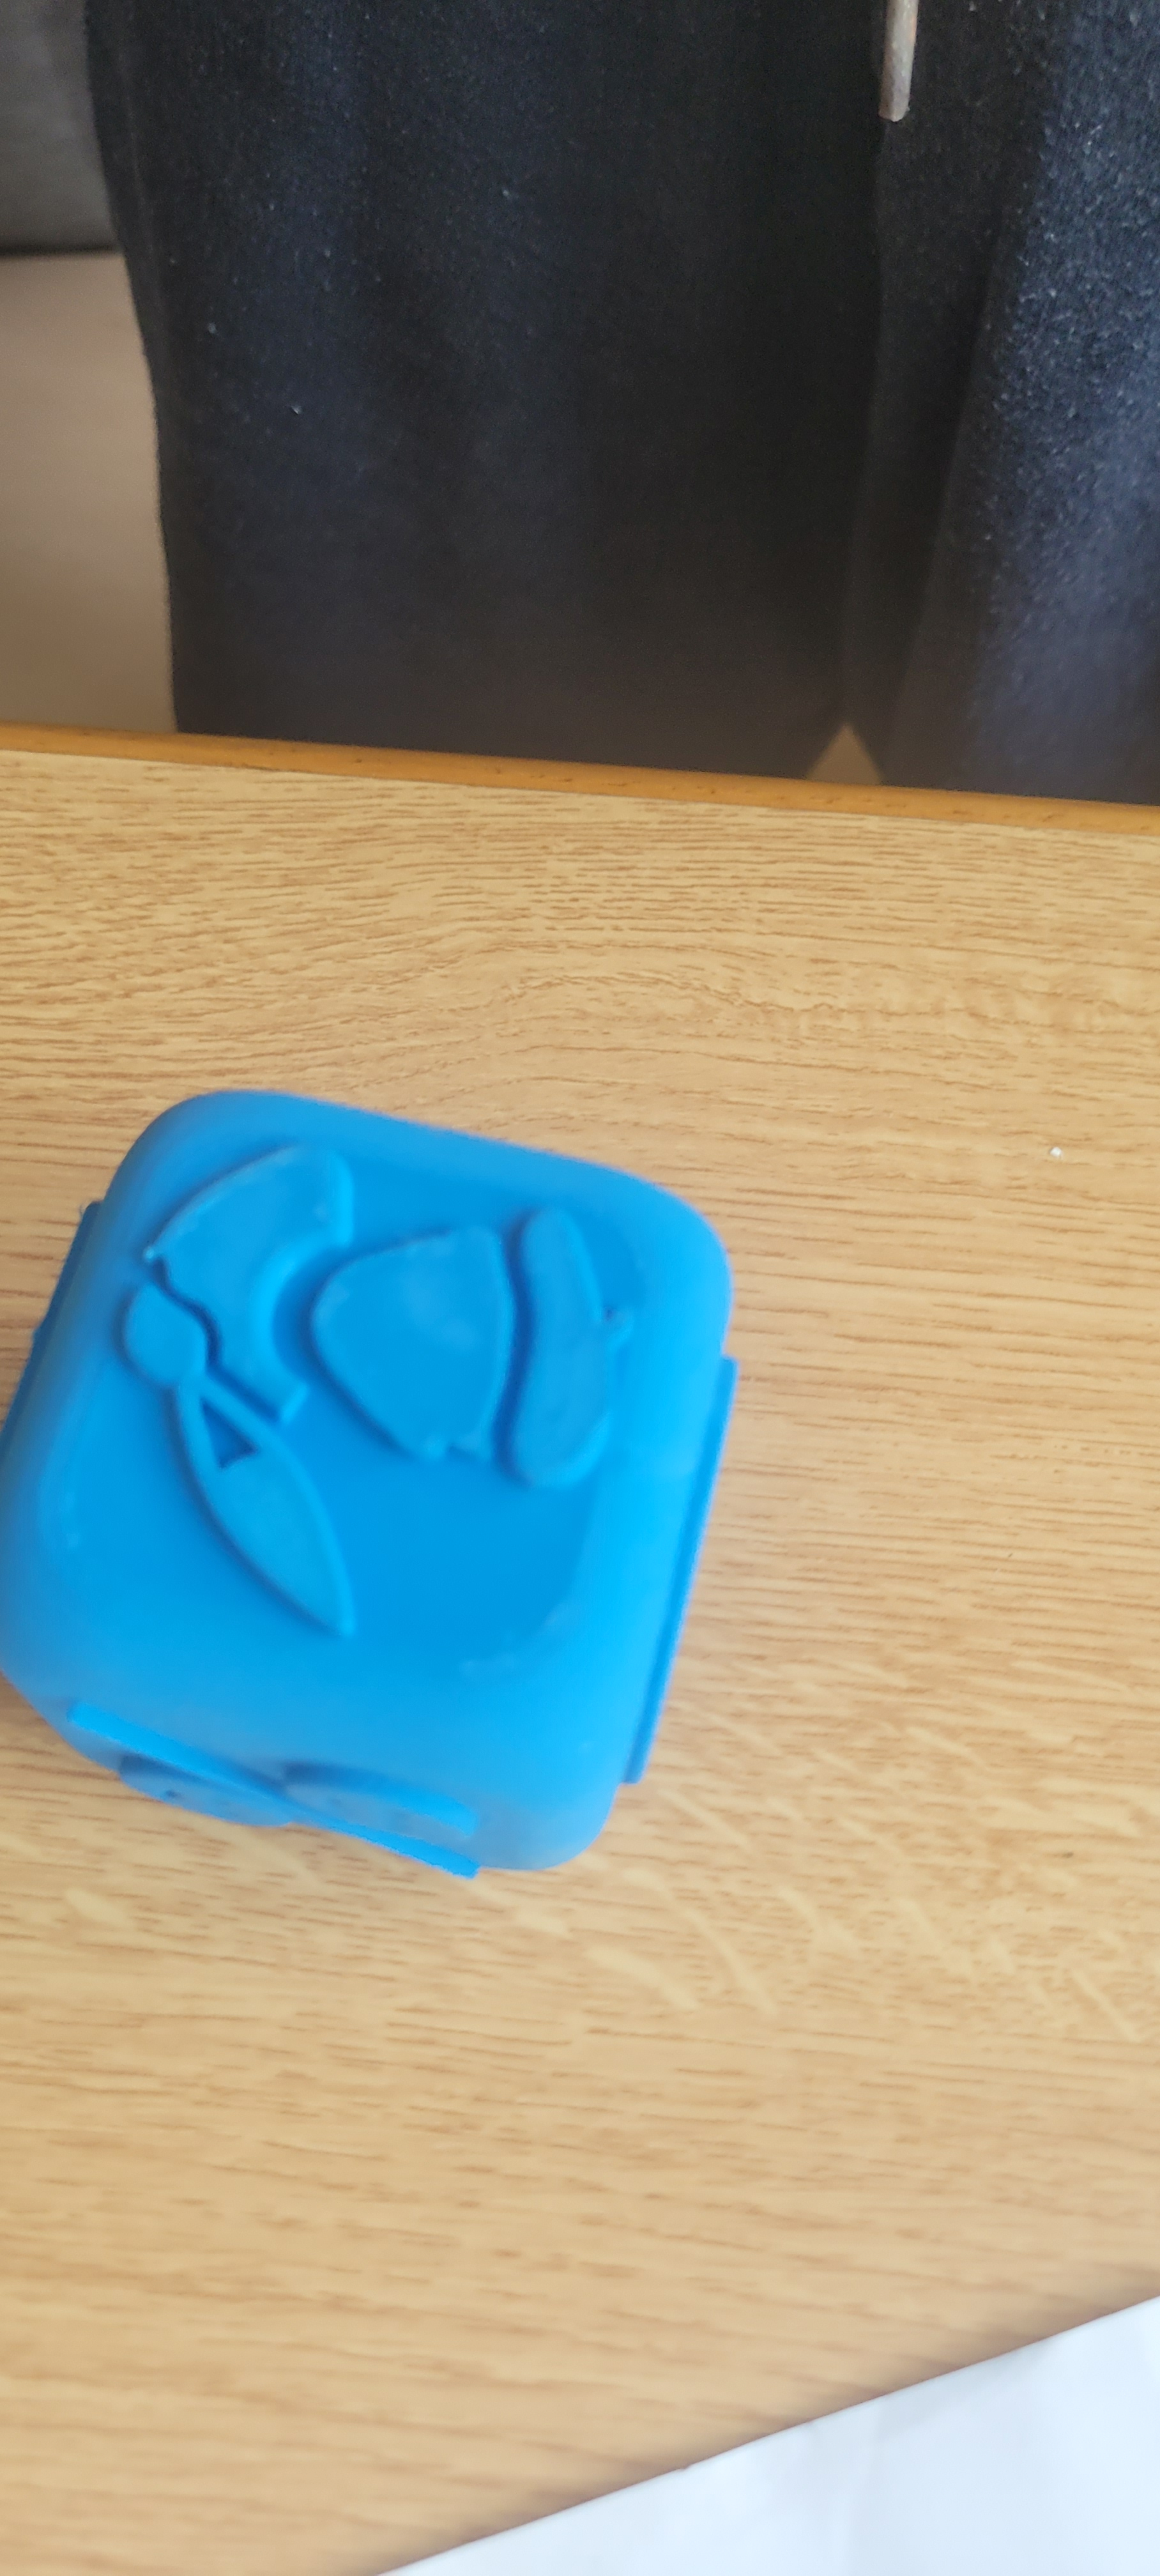Artist_Info: (99, 1043, 679, 1802)
